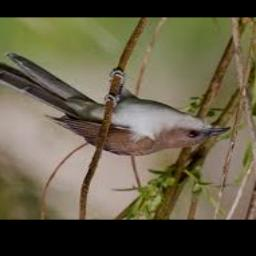Cuckoo: (0, 52, 231, 156)
